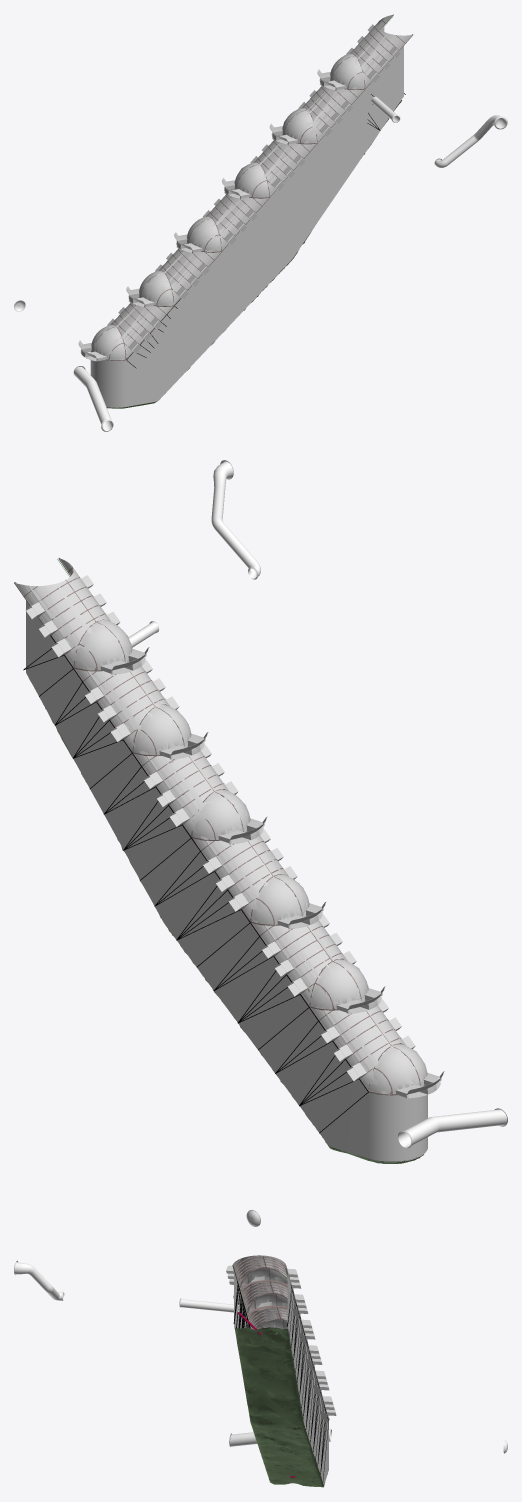
Rendered from First_Gallery_Lower_LowerPart.glb.
The picture shows the model from 3 angles, top to bottom: view 1: azimuth 30°, elevation 25°; view 2: azimuth 150°, elevation 25°; view 3: azimuth 270°, elevation 25°; orthographic projection. The views are drawn at different scales.
Visible parts, largest first — view 1: LowWalls0.001, LowVaultsWindows0, LowVaults1, LowVaults2, LowBeams0, LowWindows1, LowWindows2, TubeHab-Entrance-Bottom, TubeHab-ConnectingPassage, LowBeams1; view 2: LowWalls0, LowVaultsWindows0, LowVaults1, LowVaults2, LowWalls0.002, LowWindows1, LowBeams0, FirstGalleryColumns-Lower, TubeHab-Entrance-Bottom, LowWindows2, TubeHab-ConnectingPassage, LowBeams1; view 3: LowBottom2, LowBottom0, LowWalls0, LowBottom1, FirstGalleryColumns-Lower, LowVaults2, LowVaultsWindows0, LowBeams0, LowBeams1, LowVaults1, TubeHab-ConnectingPassage, TubeHab-Entrance-MiddleS (+2 smaller).
Boxes of the visible parts, <box> form: LowWalls0.001: <box>91,27,403,407</box>; LowVaultsWindows0: <box>78,16,411,361</box>; LowVaults1: <box>92,15,412,360</box>; LowVaults2: <box>91,15,405,360</box>; LowBeams0: <box>92,14,413,360</box>; LowWindows1: <box>79,25,400,361</box>; LowWindows2: <box>81,24,374,360</box>; TubeHab-Entrance-Bottom: <box>73,366,113,431</box>; TubeHab-ConnectingPassage: <box>434,115,507,167</box>; LowBeams1: <box>93,15,402,360</box>; LowWalls0: <box>26,601,380,1158</box>; LowVaultsWindows0: <box>16,559,443,1098</box>; LowVaults1: <box>15,558,427,1094</box>; LowVaults2: <box>19,559,426,1094</box>; LowWalls0.002: <box>230,895,426,1162</box>; LowWindows1: <box>26,584,444,1098</box>; LowBeams0: <box>14,557,424,1095</box>; FirstGalleryColumns-Lower: <box>23,635,368,1133</box>; TubeHab-Entrance-Bottom: <box>398,1108,507,1148</box>; LowWindows2: <box>32,602,439,1096</box>; TubeHab-ConnectingPassage: <box>211,460,260,579</box>; LowBeams1: <box>14,568,423,1094</box>; LowBottom2: <box>235,1327,323,1486</box>; LowBottom0: <box>235,1327,324,1486</box>; LowWalls0: <box>234,1271,328,1484</box>; LowBottom1: <box>234,1326,324,1487</box>; FirstGalleryColumns-Lower: <box>234,1281,328,1481</box>; LowVaults2: <box>233,1255,327,1416</box>; LowVaultsWindows0: <box>226,1255,336,1415</box>; LowBeams0: <box>232,1256,326,1412</box>; LowBeams1: <box>233,1257,325,1405</box>; LowVaults1: <box>233,1255,328,1418</box>; TubeHab-ConnectingPassage: <box>14,1260,64,1300</box>; TubeHab-Entrance-MiddleS: <box>179,1298,239,1312</box>.
Size of what is drawn, in the model's own units: 262 by 255 by 333.
